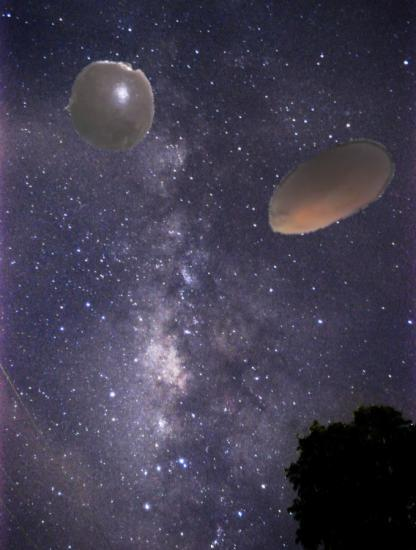Hazelnut: (257, 115, 401, 259)
Passion: (64, 58, 159, 153)
